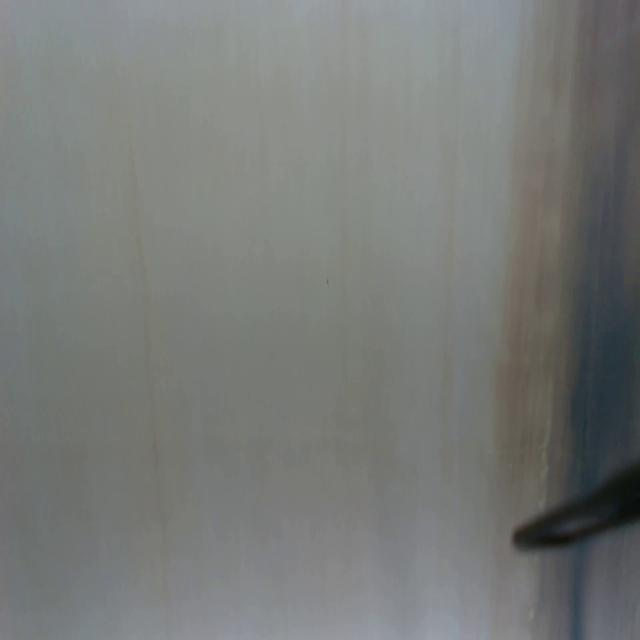color bleeding: (493, 0, 640, 472)
crease: (128, 140, 166, 548)
hole: (325, 274, 331, 292)
